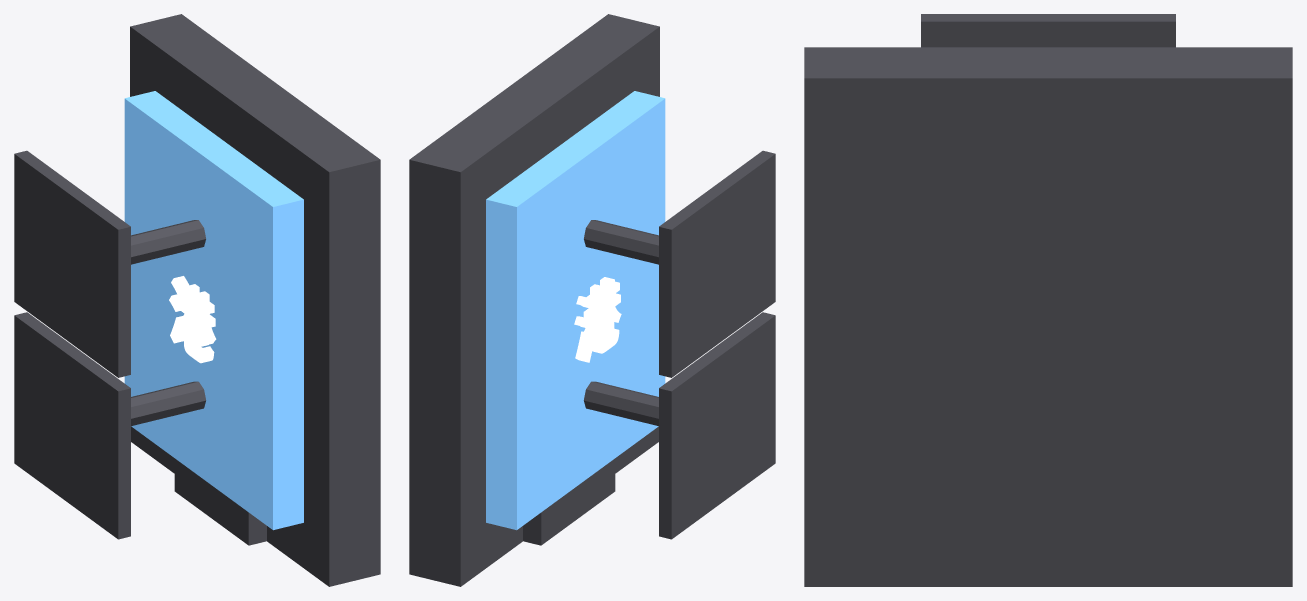
Rendered from bt-d2-sign-port.glb.
3 renders of one model, left to right at view 1: azimuth 30°, elevation 25°; view 2: azimuth 150°, elevation 25°; view 3: azimuth 270°, elevation 25°, orthographic. The views are drawn at different scales.
Parts seen in each view (by area): view 1: bt-d2-sign-port_board, bt-d2-sign-port_frame, bt-d2-sign-port_bar1.05, bt-d2-sign-port_bar1.65, bt-d2-sign-port_plate, bt-d2-sign-port_txt-1, bt-d2-sign-port_arm1.05, bt-d2-sign-port_arm1.65; view 2: bt-d2-sign-port_board, bt-d2-sign-port_frame, bt-d2-sign-port_bar1.05, bt-d2-sign-port_bar1.65, bt-d2-sign-port_plate, bt-d2-sign-port_txt-1, bt-d2-sign-port_arm1.05, bt-d2-sign-port_arm1.65; view 3: bt-d2-sign-port_frame, bt-d2-sign-port_bar1.65.
Boxes of the visible parts, left/top/right/bottom form: bt-d2-sign-port_board: left=124, top=91, right=303, bottom=530; bt-d2-sign-port_frame: left=130, top=14, right=380, bottom=586; bt-d2-sign-port_bar1.05: left=14, top=312, right=130, bottom=539; bt-d2-sign-port_bar1.65: left=14, top=150, right=130, bottom=377; bt-d2-sign-port_plate: left=174, top=458, right=266, bottom=545; bt-d2-sign-port_txt-1: left=169, top=276, right=216, bottom=363; bt-d2-sign-port_arm1.05: left=131, top=381, right=206, bottom=426; bt-d2-sign-port_arm1.65: left=131, top=220, right=205, bottom=264; bt-d2-sign-port_board: left=486, top=91, right=665, bottom=530; bt-d2-sign-port_frame: left=409, top=14, right=659, bottom=586; bt-d2-sign-port_bar1.05: left=659, top=312, right=775, bottom=539; bt-d2-sign-port_bar1.65: left=659, top=150, right=775, bottom=377; bt-d2-sign-port_plate: left=523, top=458, right=615, bottom=545; bt-d2-sign-port_txt-1: left=574, top=277, right=621, bottom=362; bt-d2-sign-port_arm1.05: left=583, top=381, right=658, bottom=426; bt-d2-sign-port_arm1.65: left=584, top=220, right=658, bottom=264; bt-d2-sign-port_frame: left=804, top=47, right=1292, bottom=586; bt-d2-sign-port_bar1.65: left=921, top=14, right=1175, bottom=47.
Bounding box in the file's own units: 0.835 × 1.54 × 1.34.
